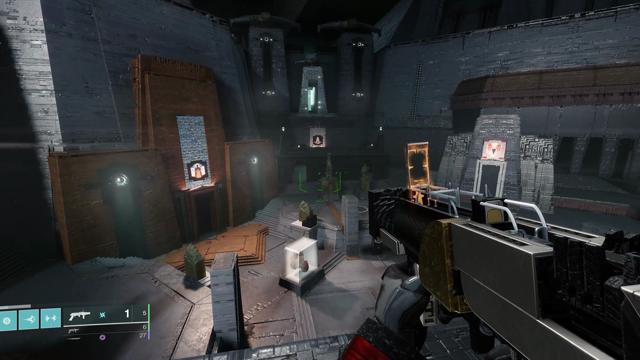enter: (313, 136, 323, 145)
give: (486, 143, 502, 156)
worship: (190, 163, 206, 178)
